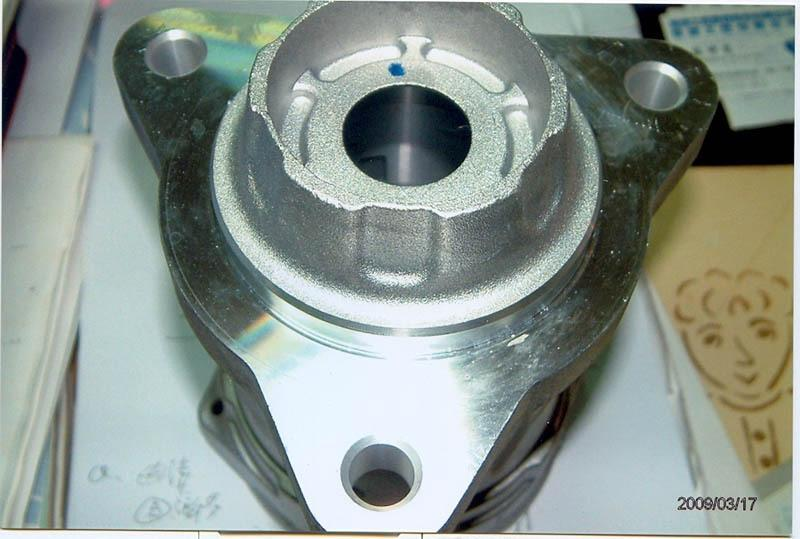hole: (334, 432, 427, 514), (614, 52, 692, 118), (141, 31, 214, 80)
